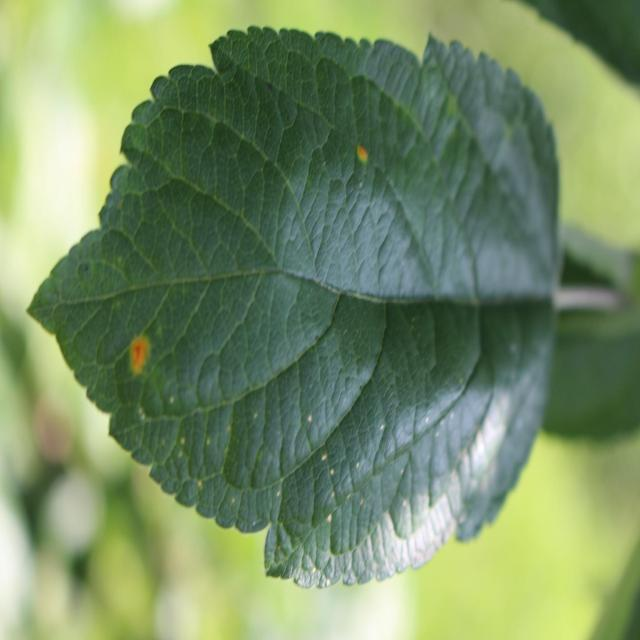Rust: (130, 332, 152, 382), (352, 140, 373, 172)
